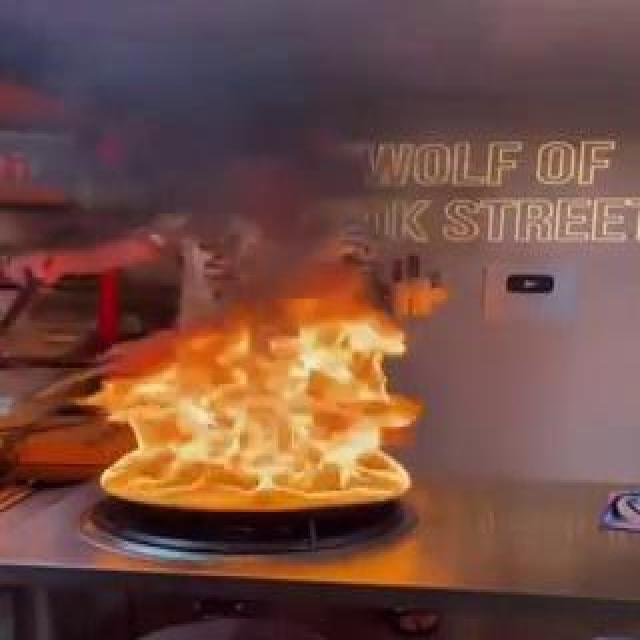Fire: (65, 165, 423, 518)
